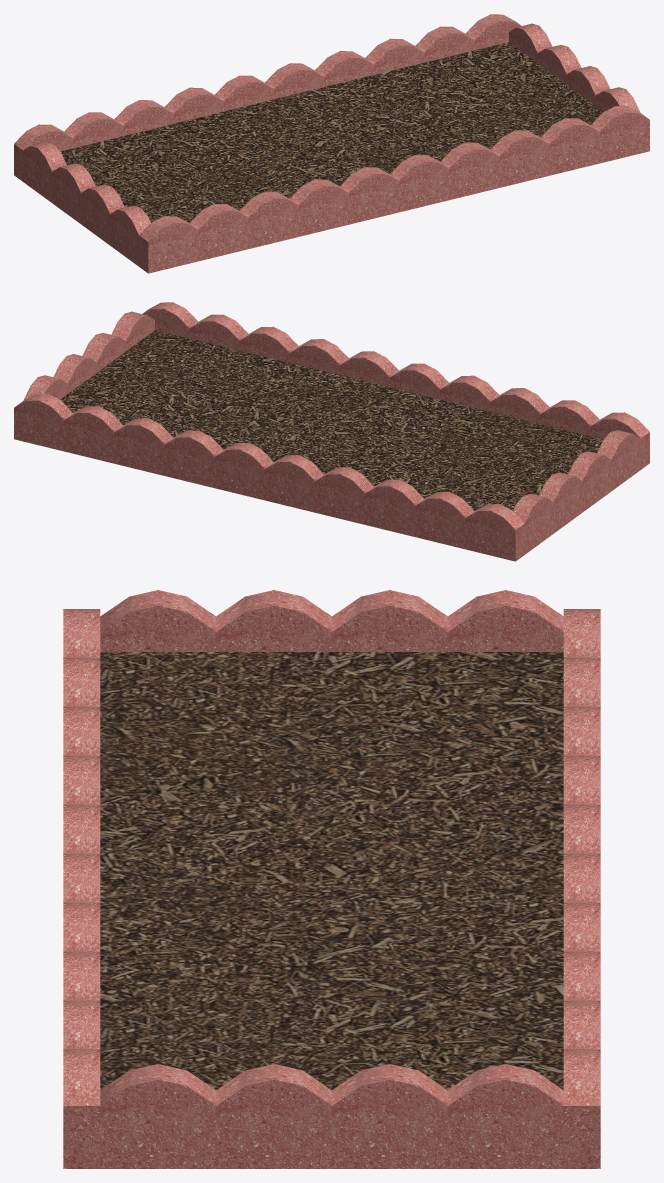
File: flower_bed_c.FBX
The picture shows the model from 3 angles, top to bottom: view 1: azimuth 30°, elevation 25°; view 2: azimuth 150°, elevation 25°; view 3: azimuth 270°, elevation 25°; orthographic projection. The views are drawn at different scales.
Parts seen in each view (by area): view 1: flower_bed_c; view 2: flower_bed_c; view 3: flower_bed_c.
Part boxes in pixels (box(x1,y1,x2,y2)): flower_bed_c: box(14, 14, 649, 273); flower_bed_c: box(14, 302, 649, 561); flower_bed_c: box(63, 590, 600, 1168).
Bounding box in the file's own units: 250 × 21.29 × 116.
